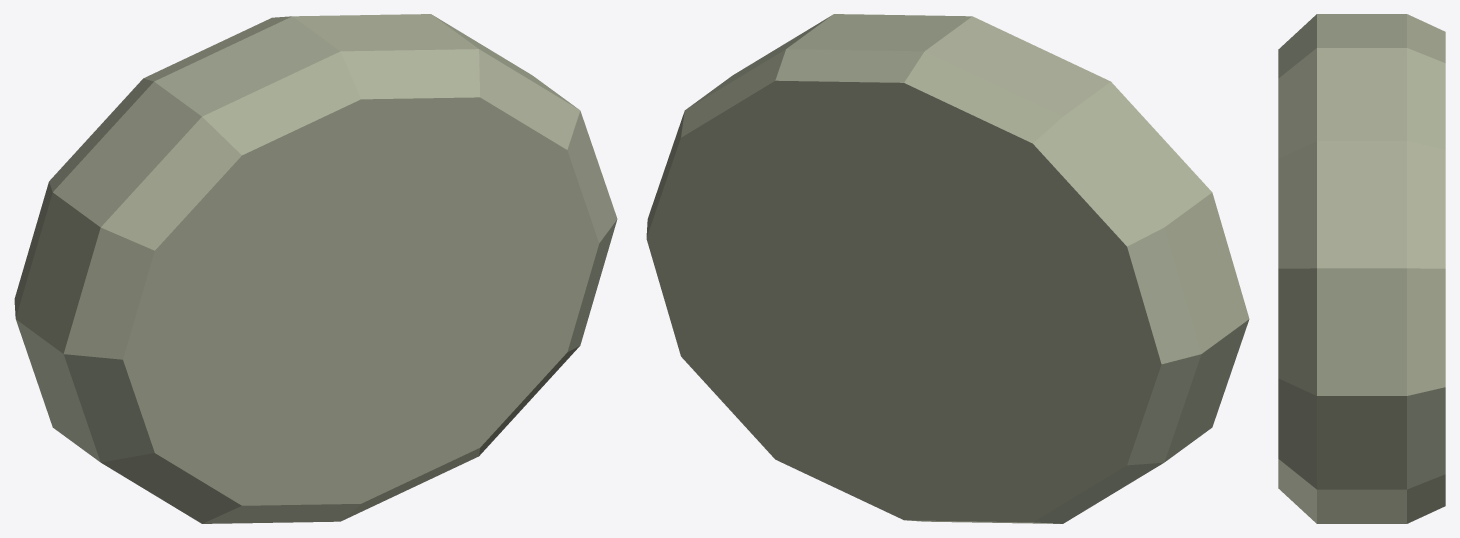
Rendered from centipede_segment_2.obj.
The picture shows the model from 3 angles, left to right: view 1: azimuth 30°, elevation 25°; view 2: azimuth 150°, elevation 25°; view 3: azimuth 270°, elevation 25°; orthographic projection. The views are drawn at different scales.
Parts seen in each view (by area): view 1: centipede_segment_2; view 2: centipede_segment_2; view 3: centipede_segment_2.
Part boxes in pixels (x1,y1,x2,y2): centipede_segment_2: (14, 14, 617, 523); centipede_segment_2: (646, 14, 1249, 523); centipede_segment_2: (1278, 14, 1445, 523).
Bounding box in the file's own units: 1.4 × 1.14 × 0.39.
